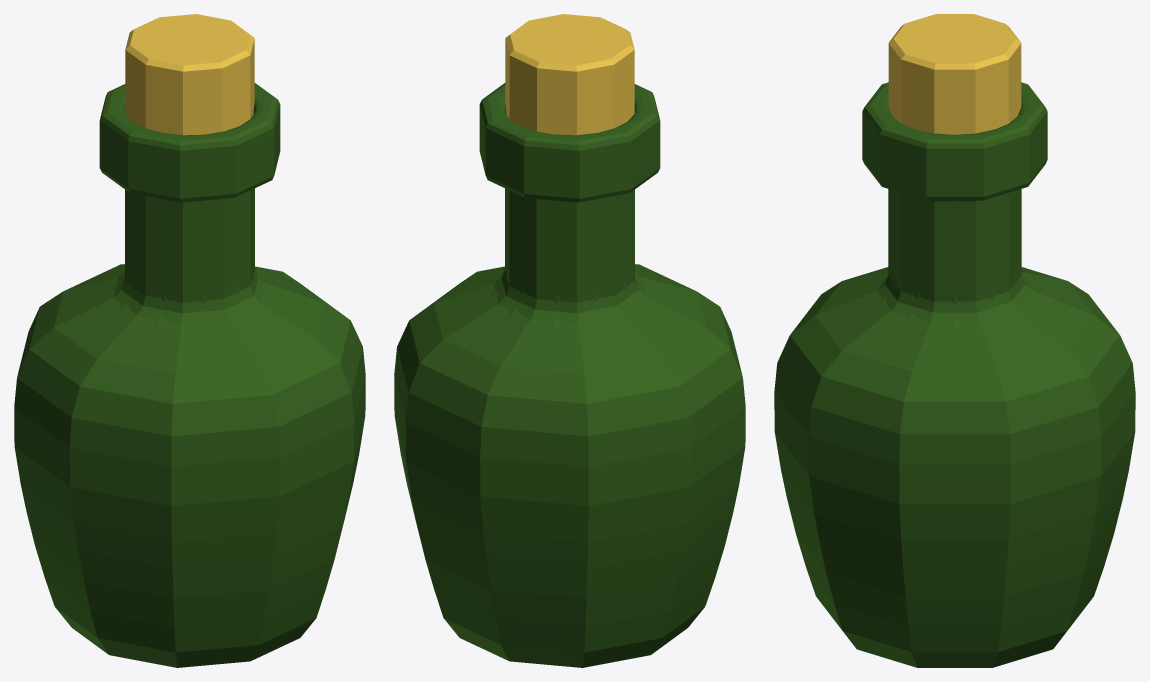
File: bottle_of_rum.glb
3 renders of one model, left to right at view 1: azimuth 30°, elevation 25°; view 2: azimuth 150°, elevation 25°; view 3: azimuth 270°, elevation 25°, orthographic.
Visible parts, largest first — view 1: bottle.001, bottle; view 2: bottle.001, bottle; view 3: bottle.001, bottle.
Boxes of the visible parts, <box> form: bottle.001: <box>14,14,365,667</box>; bottle: <box>109,22,270,326</box>; bottle.001: <box>394,14,745,667</box>; bottle: <box>489,23,650,326</box>; bottle.001: <box>774,14,1135,667</box>; bottle: <box>877,22,1032,328</box>.
Bounding box in the file's own units: 0.2354 × 0.4458 × 0.2475.
